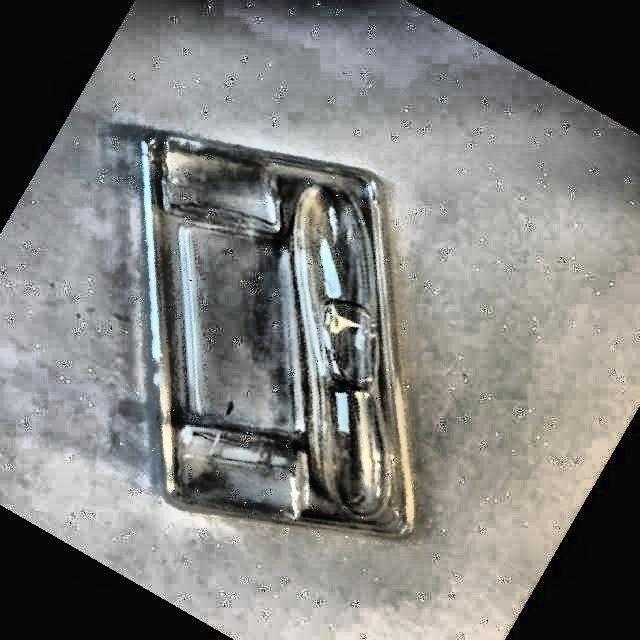plastic: (142, 135, 412, 536)
